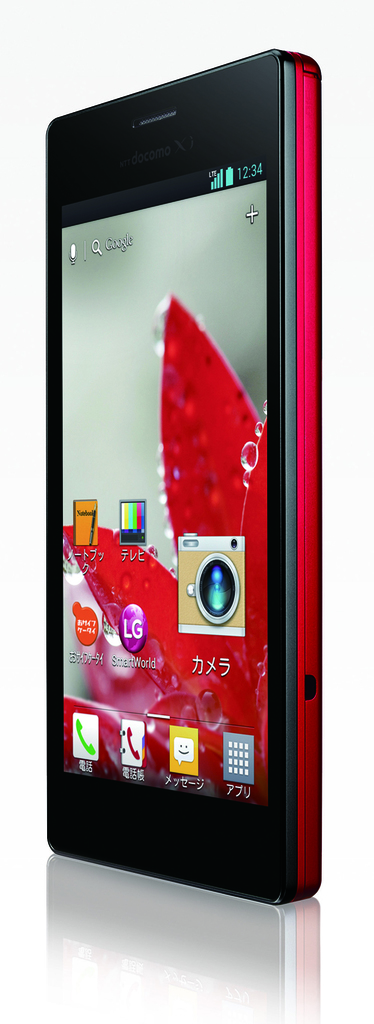Mobile-phone: (41, 44, 324, 905)
